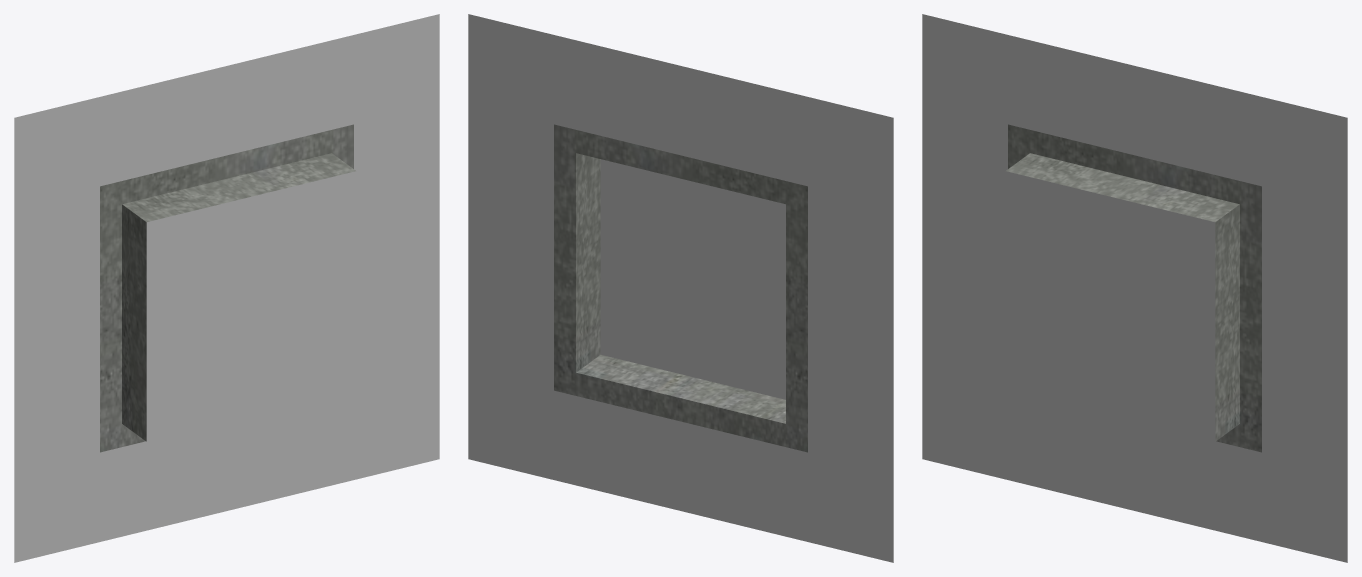
The model's file is wallA_flatWindow.fbx.
The picture shows the model from 3 angles, left to right: view 1: azimuth 30°, elevation 25°; view 2: azimuth 150°, elevation 25°; view 3: azimuth 330°, elevation 25°; orthographic projection.
Visible parts, largest first — view 1: wallA_flatWindow; view 2: wallA_flatWindow; view 3: wallA_flatWindow.
Boxes of the visible parts, <box> form: wallA_flatWindow: <box>14,14,439,562</box>; wallA_flatWindow: <box>468,14,893,562</box>; wallA_flatWindow: <box>922,14,1347,562</box>.
Size of the model in its own units: 10 by 10 by 1.
